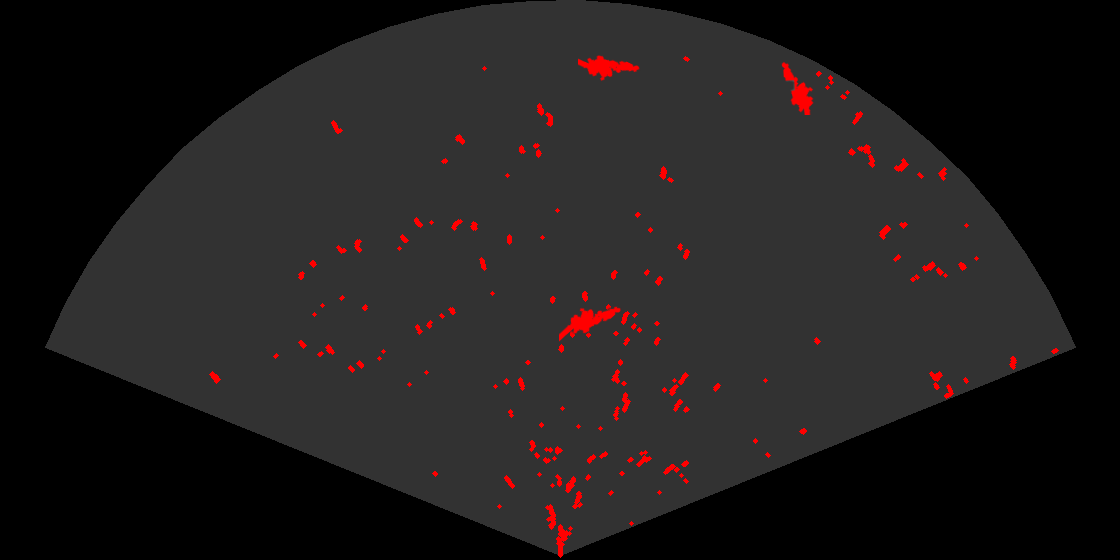frogman: (559, 305, 622, 343), (780, 60, 815, 115), (578, 54, 641, 83)
